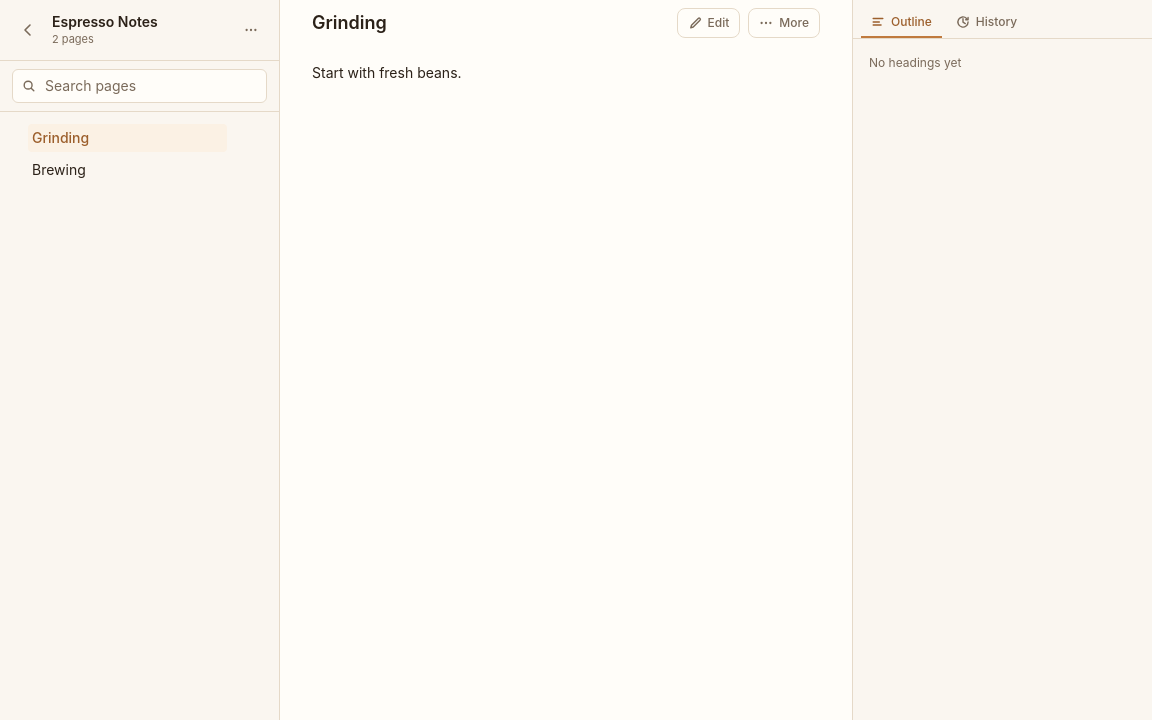
NotebookReaderPage › lets a writer rewrite the page URL from the chrome
expect the heading "Grinding" is shown: met, box top-left (312, 9), bottom-right (387, 37)
Click the button with aria-label "More actions" at (784, 23), box top-left (748, 8), bottom-right (820, 38)
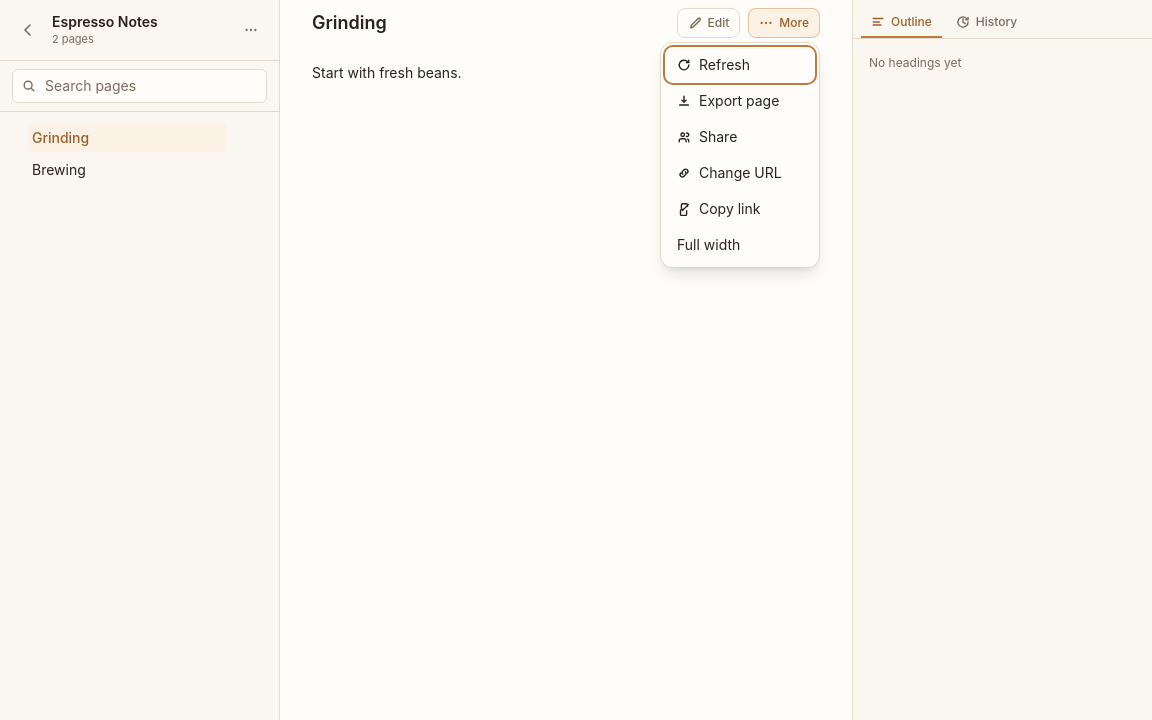
Click the menu item "Change URL" at (740, 173), box top-left (665, 155), bottom-right (815, 191)
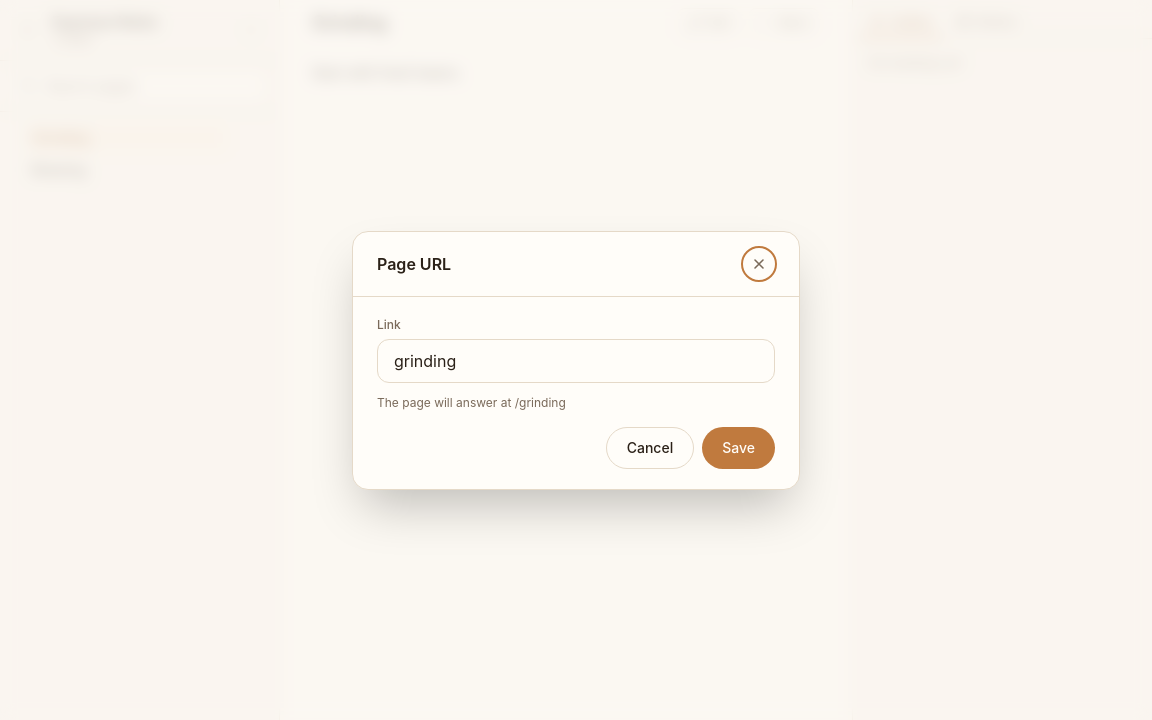
Replace the text in the field labelled "Link" with "filter-notes" at (576, 360), box top-left (377, 338), bottom-right (775, 382)
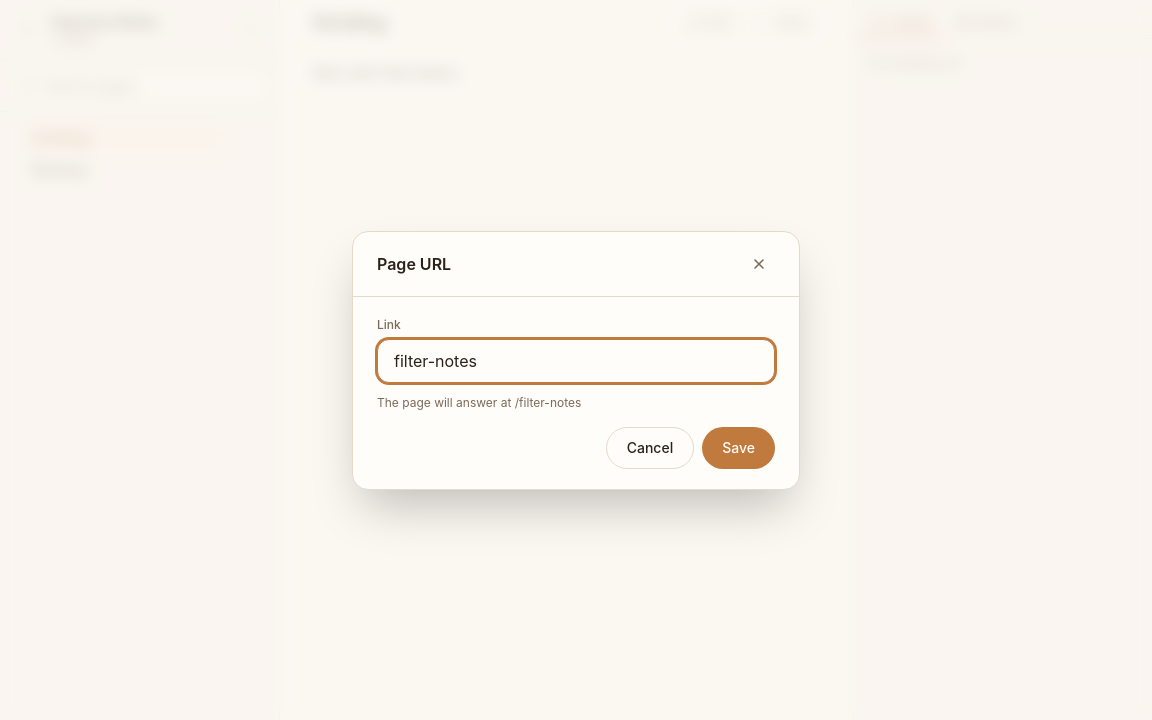
Click the button "Save" at (739, 448), box top-left (702, 426), bottom-right (775, 468)
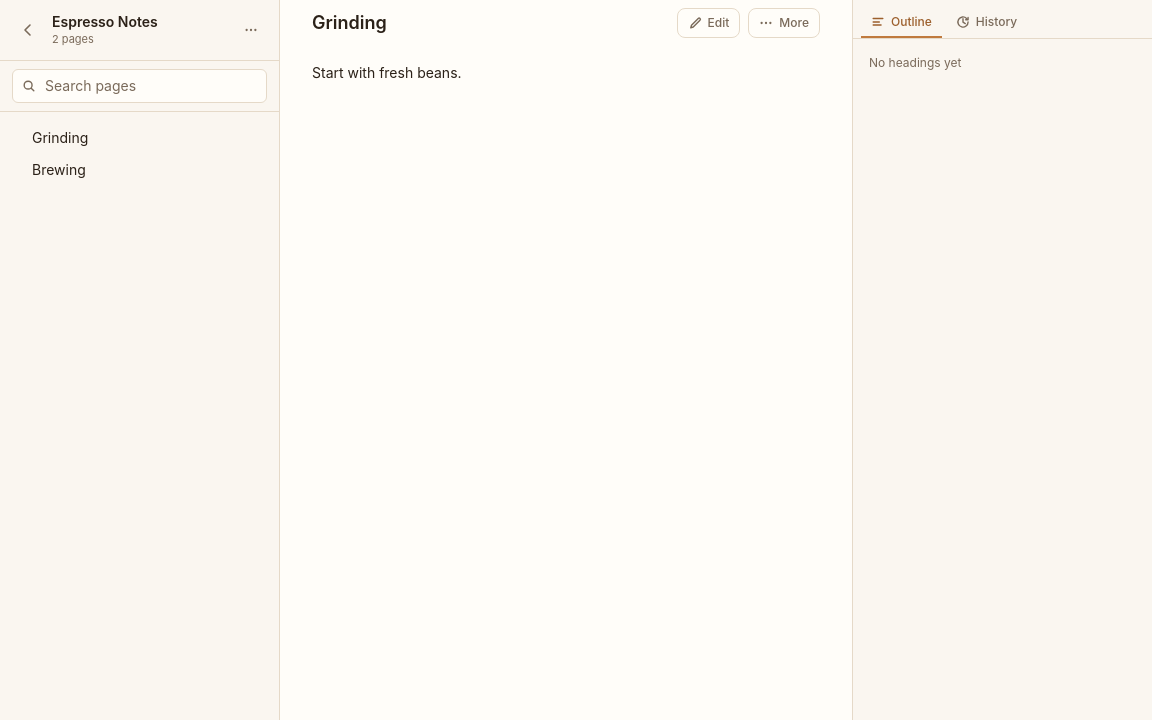
expect the dialog is gone: met
